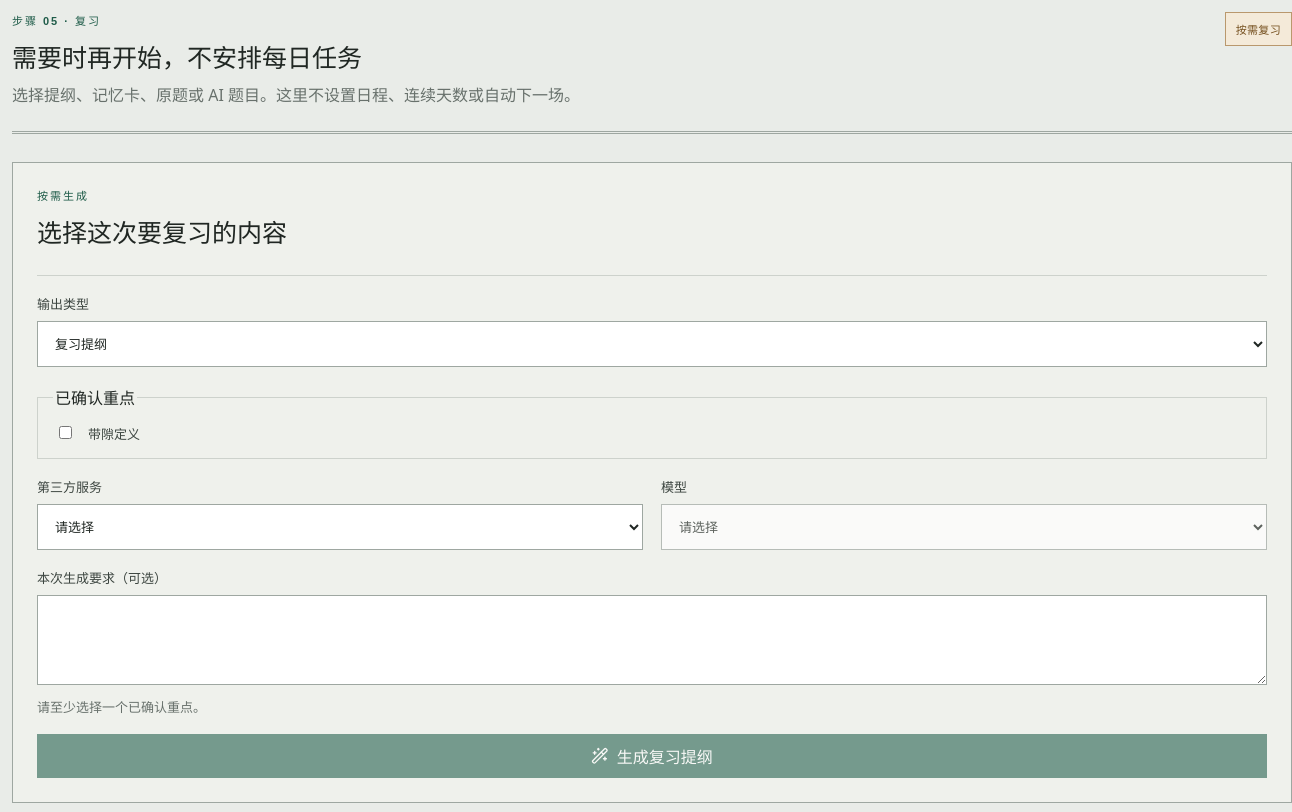
Scenario: explains generation prerequisites and restores a running artifact
Expected: the text "请至少选择一个已确认重点。" is shown, [37, 698, 206, 716]
Expected: the button "生成复习提纲" is disabled, [37, 734, 1267, 778]
Click the text "带隙定义" at (114, 434), box [88, 424, 140, 443]
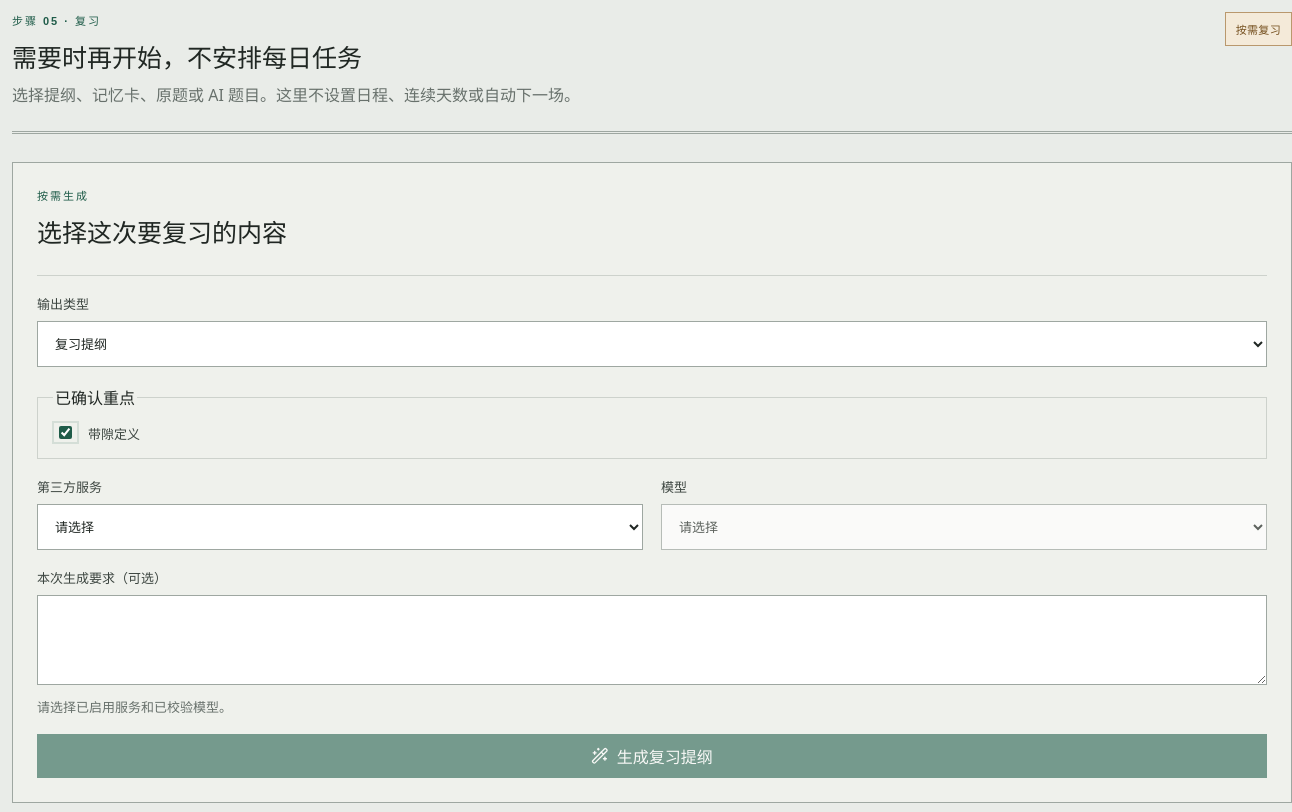
Expected: the text "请选择已启用服务和已校验模型。" is shown, [37, 698, 232, 716]
